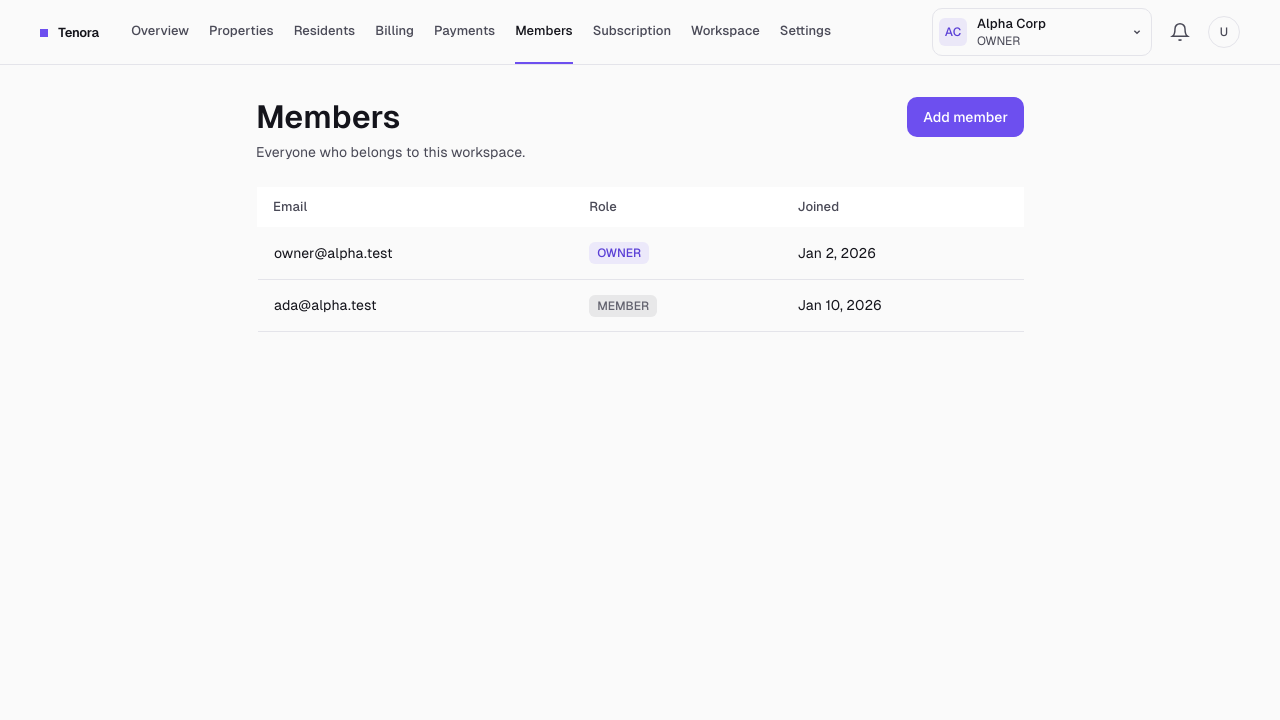
Test case: MembersPage — add member › has no role field anywhere in the form
This screenshot has width=1280, height=720.
Click the button "Add member".
click(966, 117)  # box [907,97,1024,137]
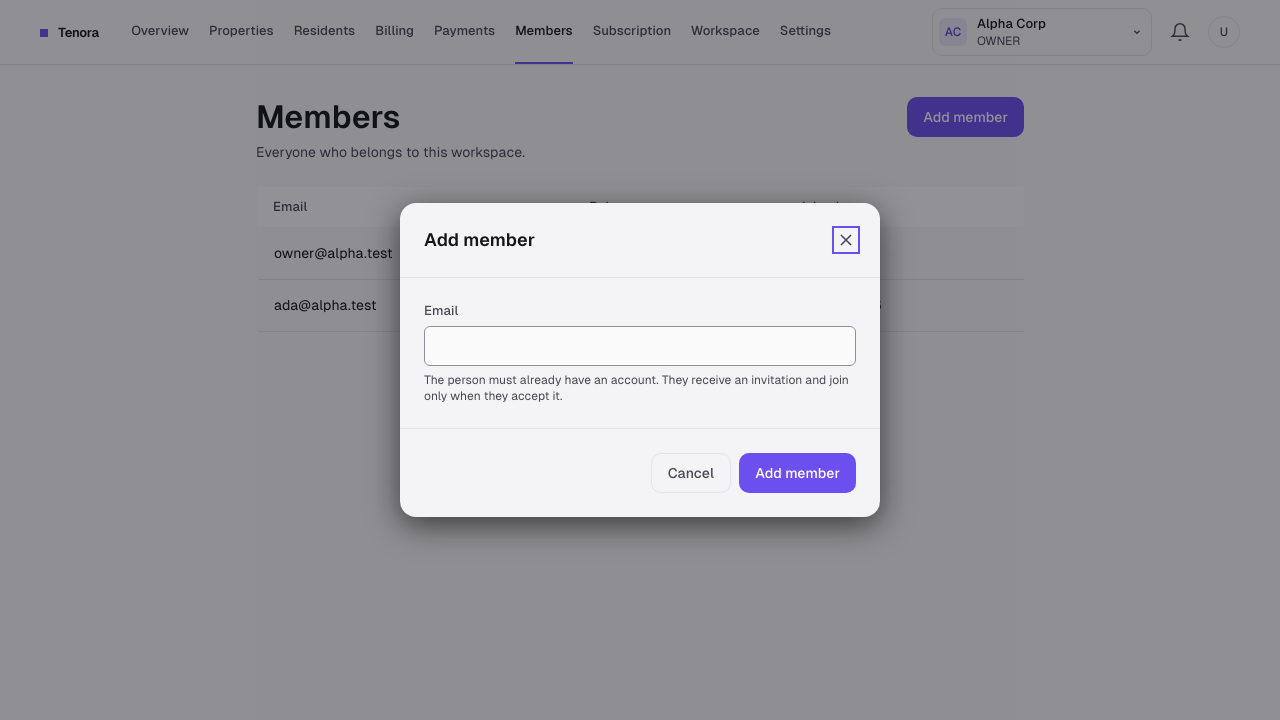
Expected: the field labelled "Email" is shown, [424,326,856,366]
